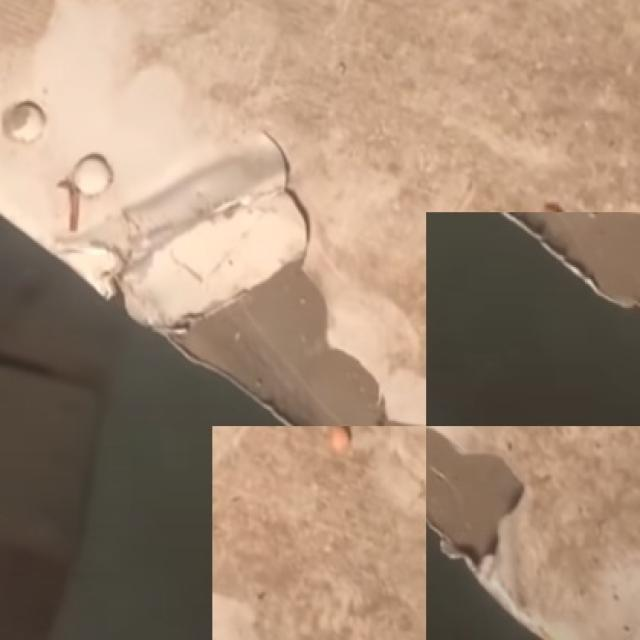crack: (247, 138, 365, 275)
